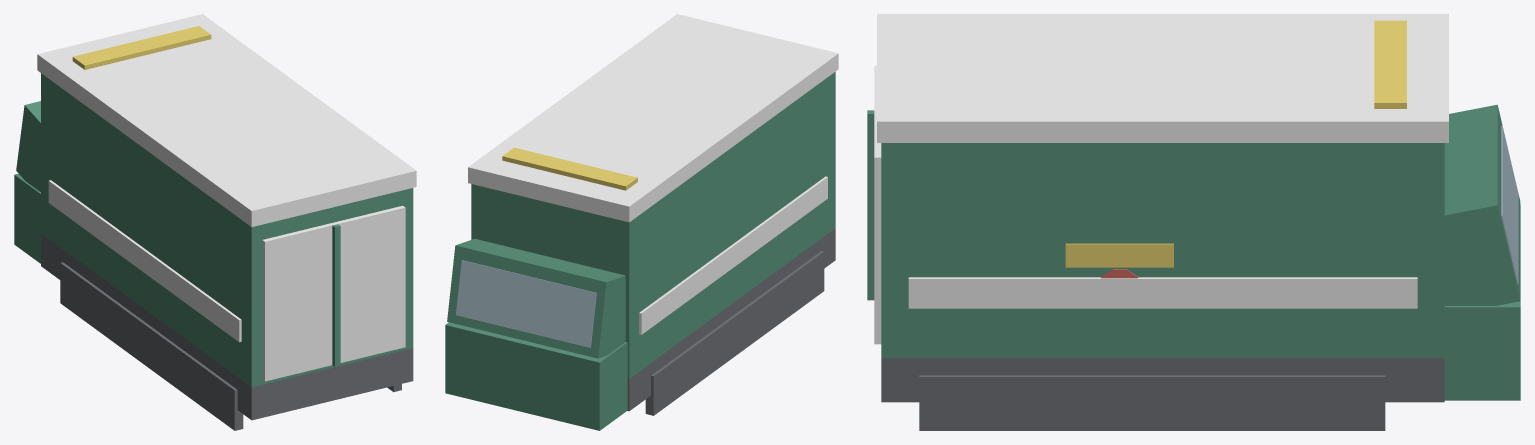
File: racecourse-and-parade-ring-horse-ambulance-body-665091b3__38637.glb
3 renders of one model, left to right at view 1: azimuth 30°, elevation 25°; view 2: azimuth 150°, elevation 25°; view 3: azimuth 270°, elevation 25°, orthographic. The views are drawn at different scales.
Visible parts, largest first — view 1: horse-ambulance-body; view 2: horse-ambulance-body; view 3: horse-ambulance-body.
Boxes of the visible parts, x1,y1,x2,y2 form: horse-ambulance-body: (14, 14, 416, 430); horse-ambulance-body: (445, 14, 838, 430); horse-ambulance-body: (867, 14, 1520, 430).
Bounding box in the file's own units: 2.38 × 3.2 × 6.03.
